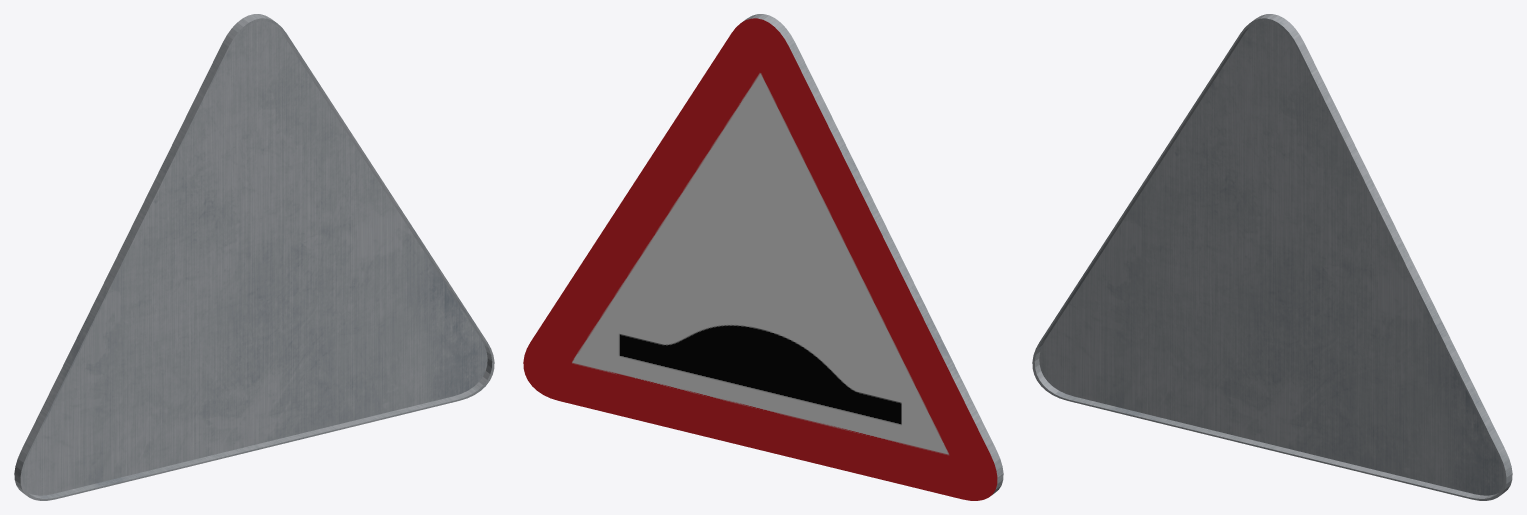
The model's file is Road_bumps_v2.fbx.
3 renders of one model, left to right at view 1: azimuth 30°, elevation 25°; view 2: azimuth 150°, elevation 25°; view 3: azimuth 330°, elevation 25°, orthographic.
Visible parts, largest first — view 1: Road bumps v2; view 2: Road bumps v2; view 3: Road bumps v2.
Boxes of the visible parts, x1=… form: Road bumps v2: x1=14, y1=14, x2=494, y2=500; Road bumps v2: x1=523, y1=14, x2=1003, y2=500; Road bumps v2: x1=1032, y1=14, x2=1512, y2=500.
Size of the model in its own units: 0.02 by 0.9002 by 0.7821.
